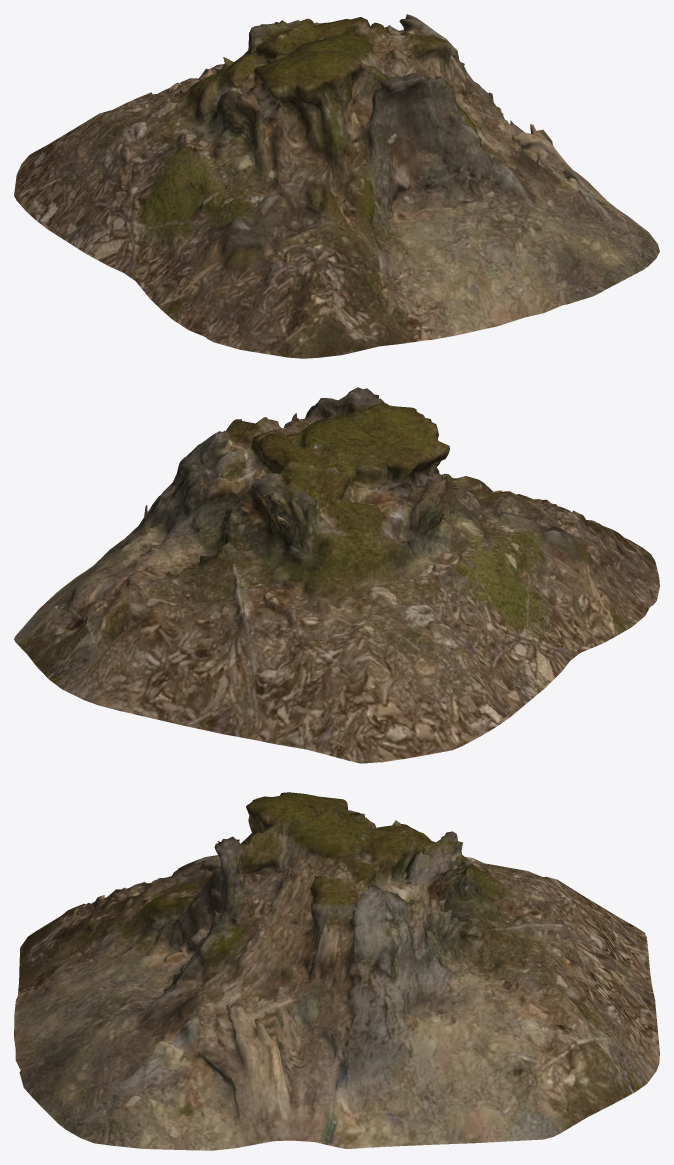
Rendered from tree_stump_01.glb.
The picture shows the model from 3 angles, top to bottom: view 1: azimuth 30°, elevation 25°; view 2: azimuth 150°, elevation 25°; view 3: azimuth 270°, elevation 25°; orthographic projection. The views are drawn at different scales.
Parts seen in each view (by area): view 1: tree_stump_01; view 2: tree_stump_01; view 3: tree_stump_01.
Boxes of the visible parts, <box> form: tree_stump_01: <box>14,14,659,358</box>; tree_stump_01: <box>14,387,659,763</box>; tree_stump_01: <box>14,792,659,1150</box>.
Size of the model in its own units: 1.43 by 0.5725 by 1.59.
Materials: 1 (1 with a texture image).
